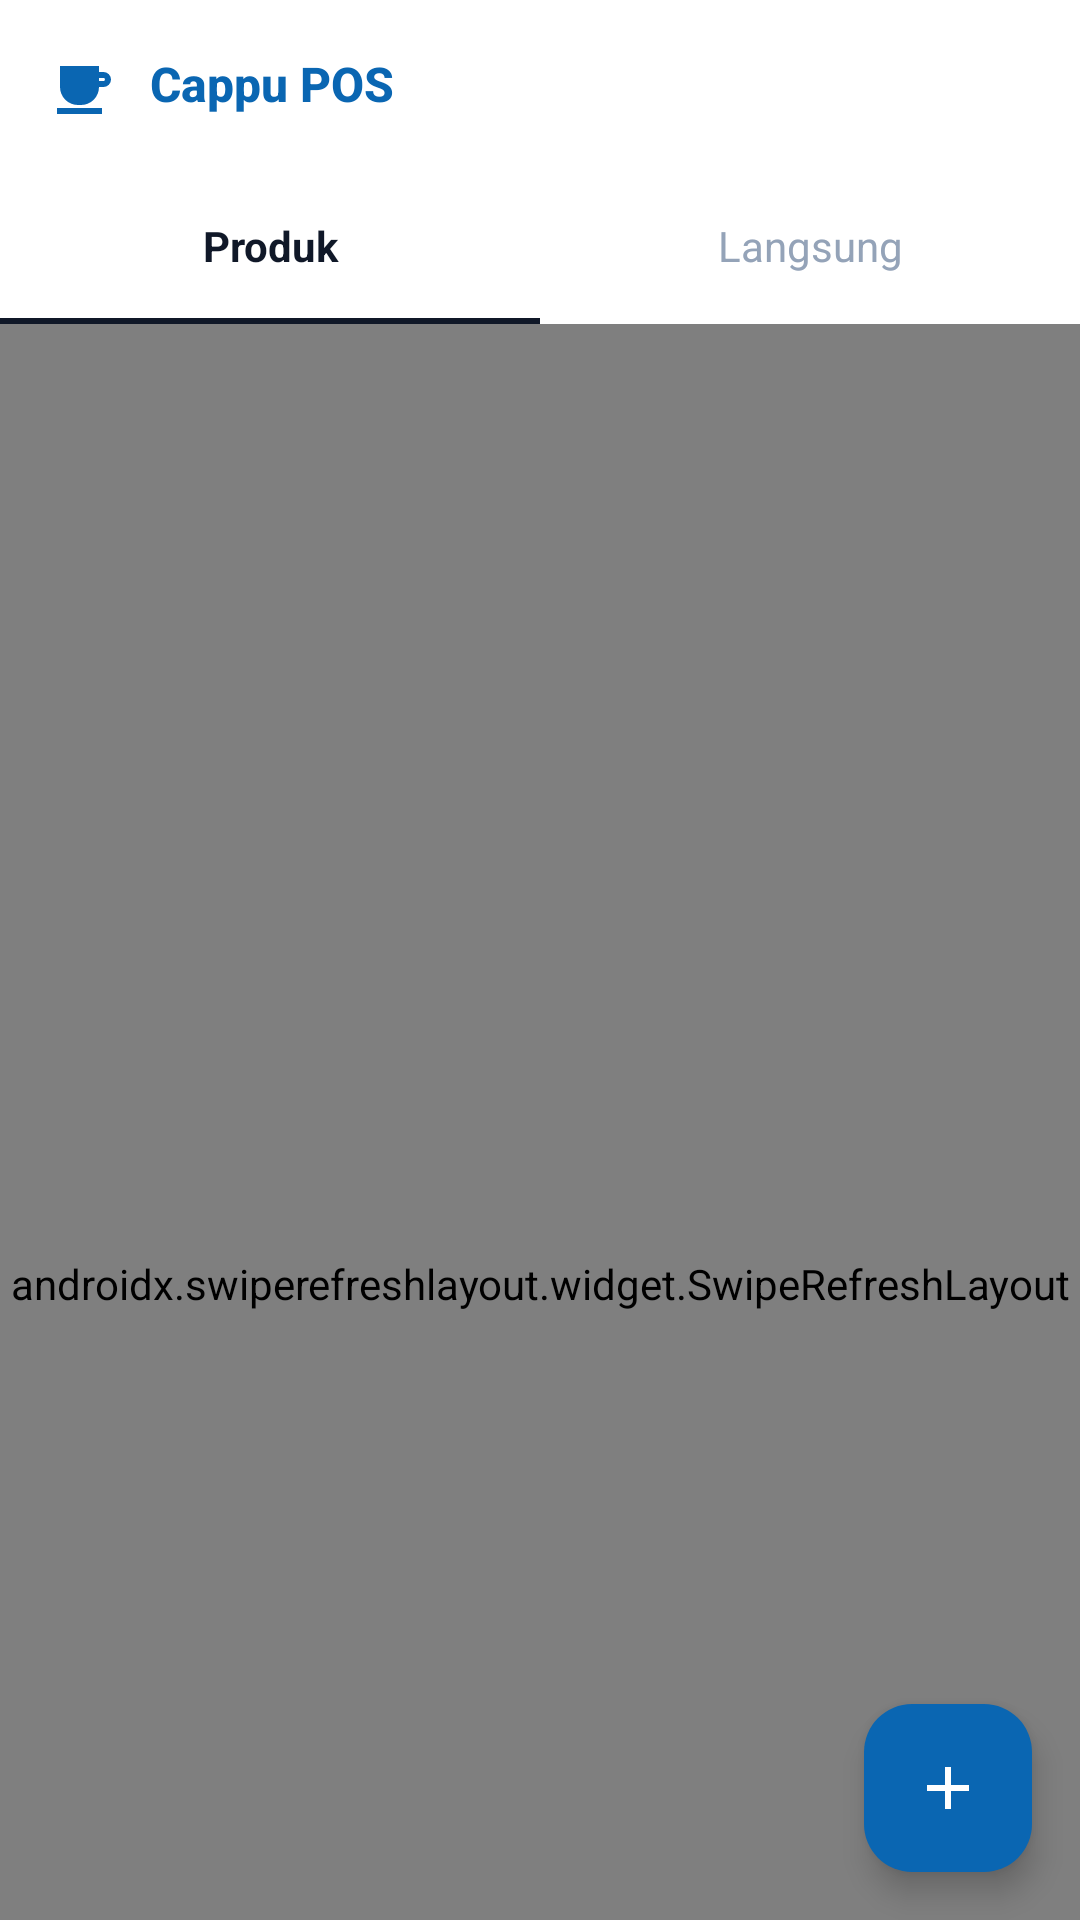

Icon click points for this 1080x1920 phone screenshot, format point (x, y):
Tambah produk: point (948, 1788)
